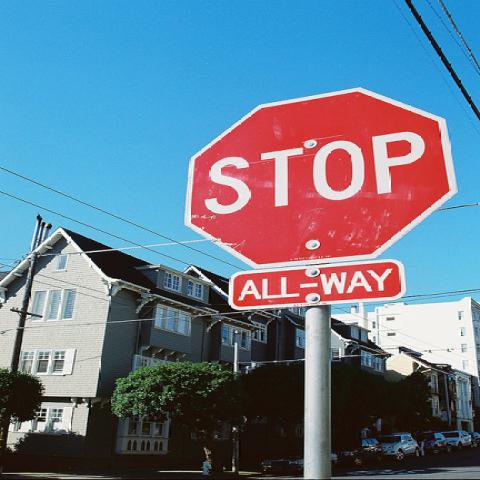car: (261, 453, 338, 475), (337, 434, 387, 466), (374, 434, 422, 461), (413, 432, 451, 454), (440, 431, 474, 450), (467, 431, 479, 448)
